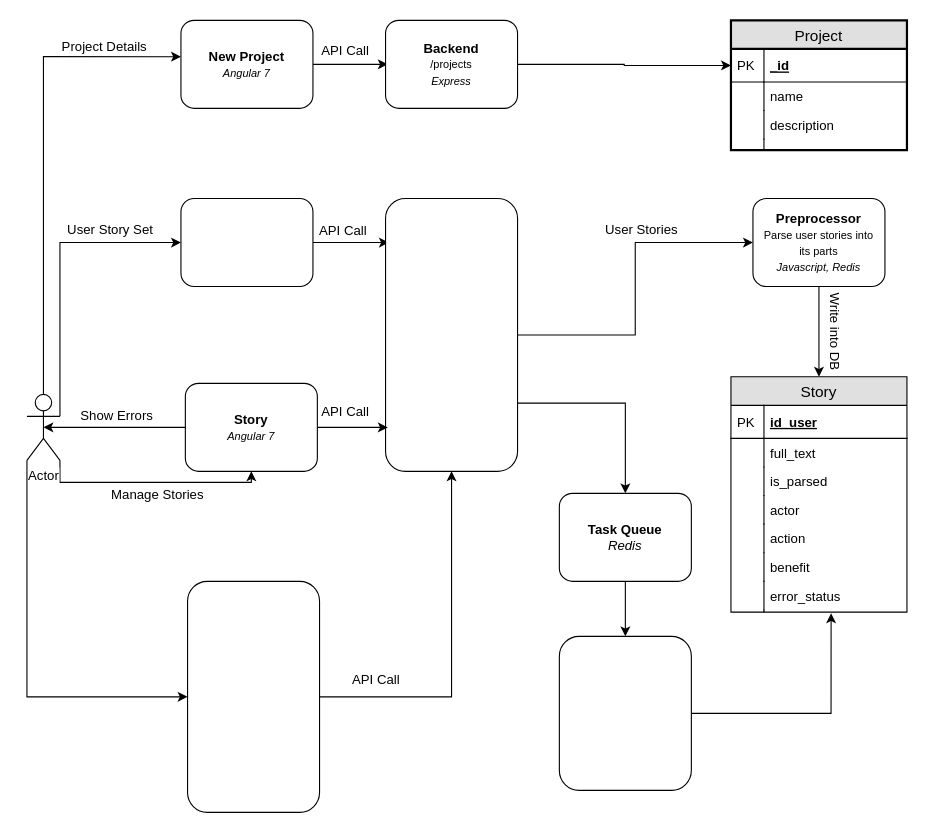
This 927x832 diagram has some shape labels left out. The shapes that lost their labels are listed below. From the top down, each one's centre as x and y in pixels, then its label:
point (246, 242): Editor Angular 7
point (451, 334): Backend /stories Express
point (253, 696): Visualize Different Charts and Dashboard Angular 7
point (624, 712): Language Processor Execute NLP Operations Tokenize Python
